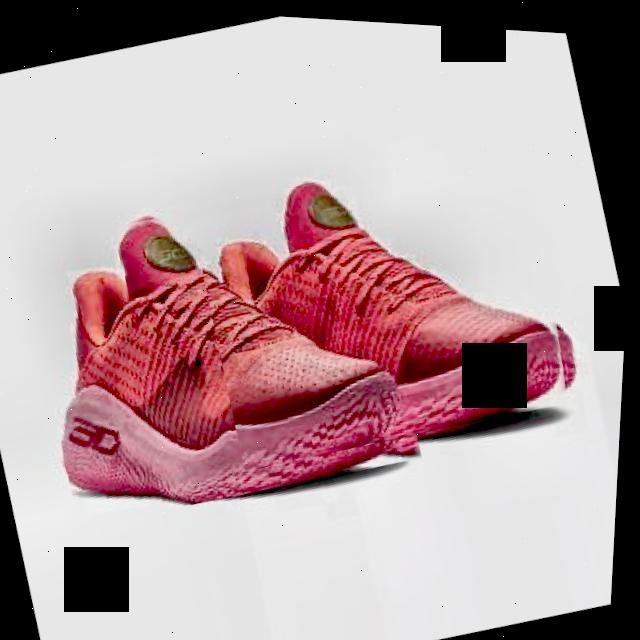shoe: (9, 148, 446, 543), (180, 115, 600, 483)
